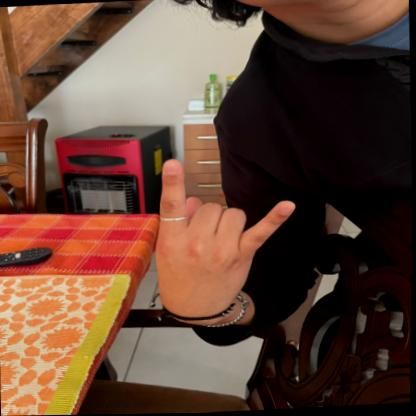U: (150, 152, 300, 317)
